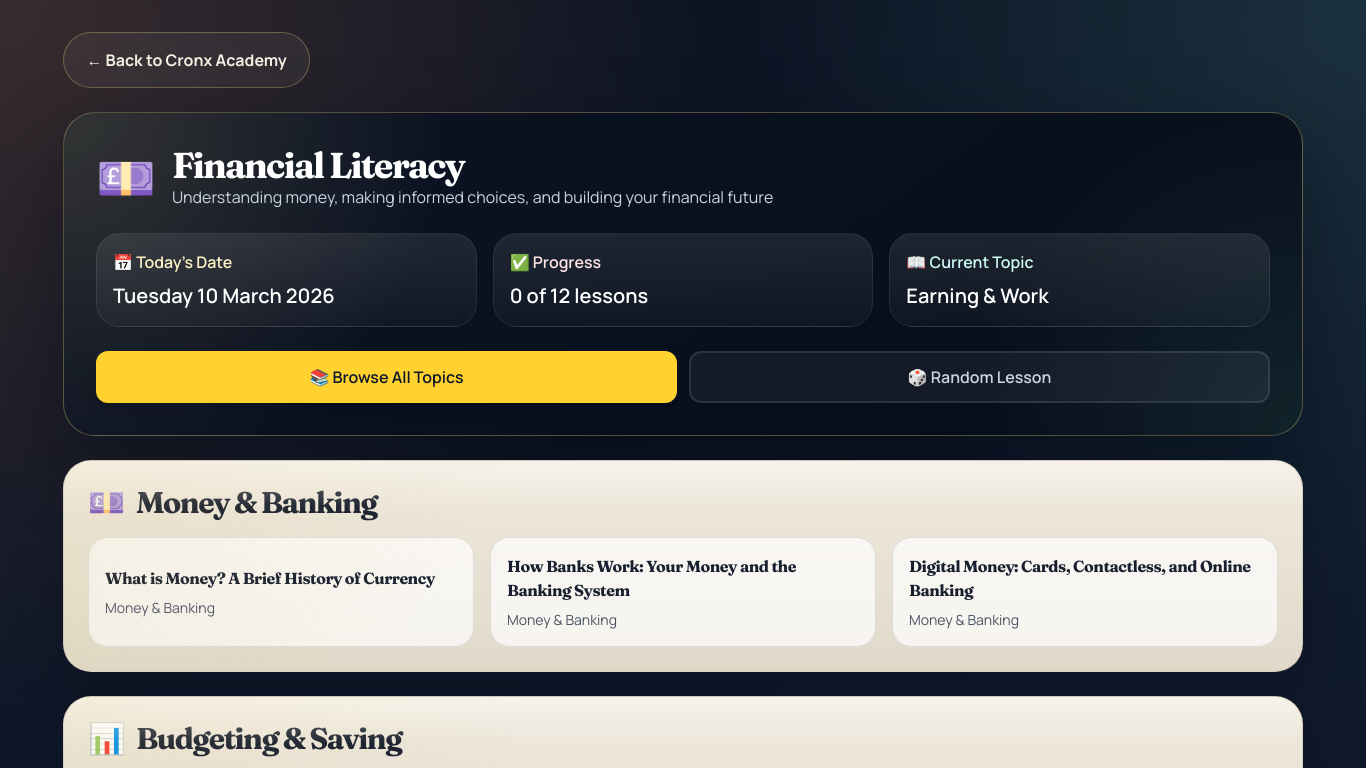
Scenario: FinancialLiteracyInteractive › shows Mark Complete button after entering lesson view via Random Lesson
Click the button "🎲 Random Lesson" at (980, 377), box left=689, top=351, right=1270, bottom=403
(page scrolled)
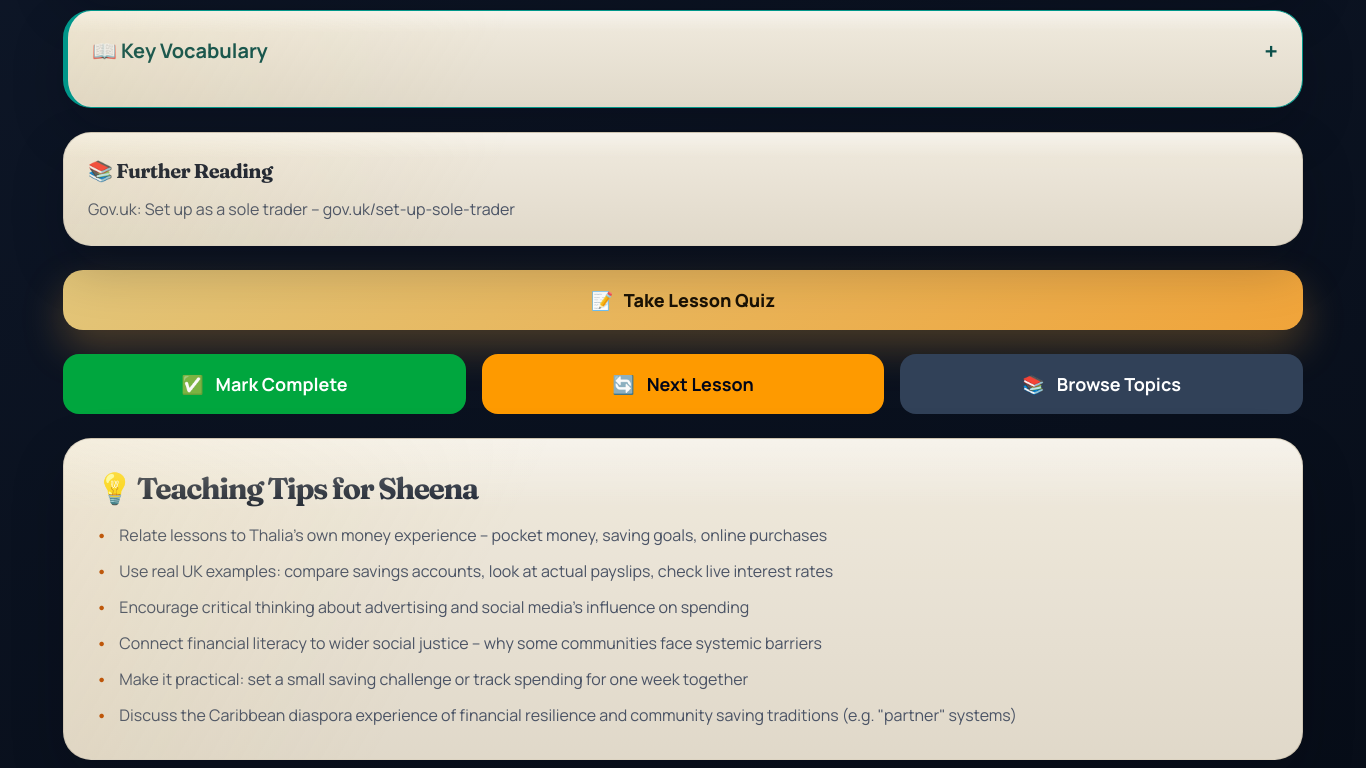
Expected: the text "Mark Complete" is shown, left=216, top=370, right=348, bottom=398
